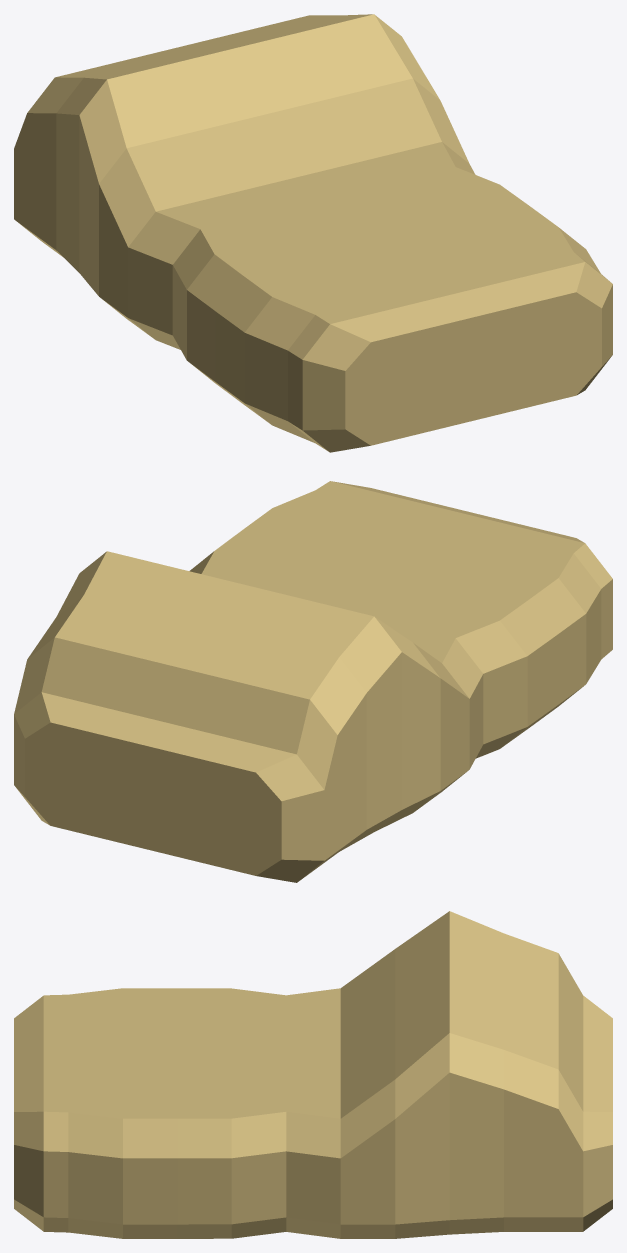
Rendered from tallow_scout_a.glb.
The picture shows the model from 3 angles, top to bottom: view 1: azimuth 30°, elevation 25°; view 2: azimuth 150°, elevation 25°; view 3: azimuth 270°, elevation 25°; orthographic projection. The views are drawn at different scales.
Visible parts, largest first — view 1: tallow_scout_a; view 2: tallow_scout_a; view 3: tallow_scout_a.
Boxes of the visible parts, bbox=[...] form: tallow_scout_a: bbox=[14, 14, 612, 452]; tallow_scout_a: bbox=[14, 481, 612, 882]; tallow_scout_a: bbox=[14, 911, 612, 1238].
Size of the model in its own units: 2.4 by 1.45 by 3.9.
